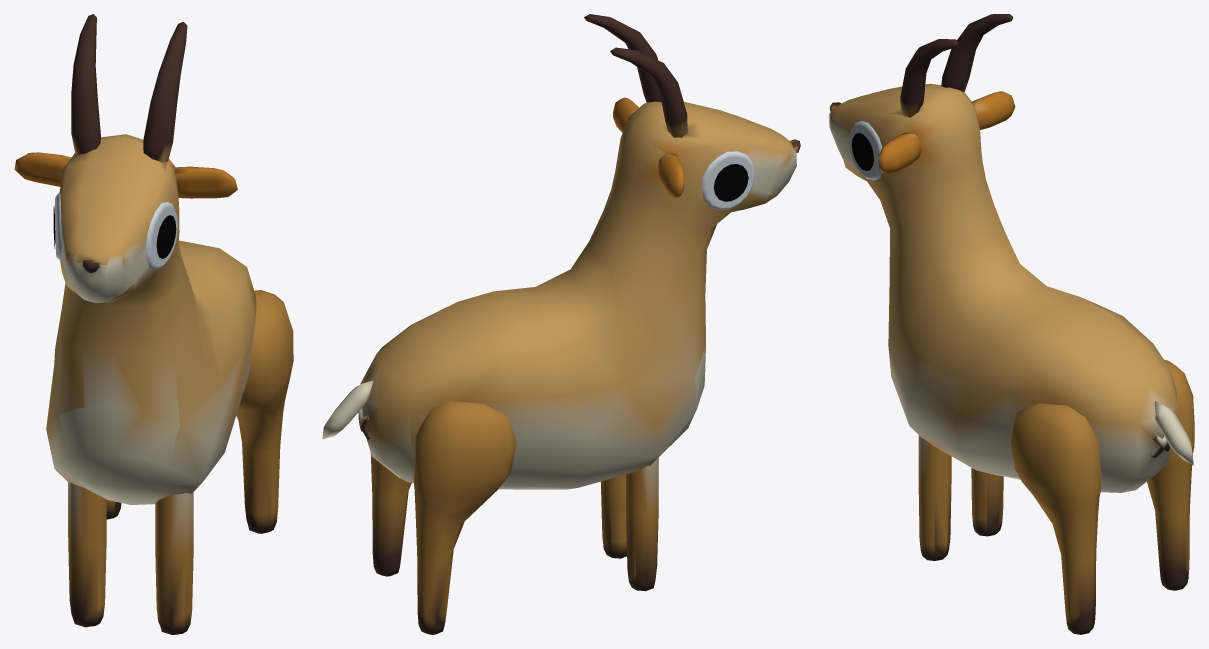
Rendered from Gazelle.glb.
The picture shows the model from 3 angles, left to right: view 1: azimuth 30°, elevation 25°; view 2: azimuth 150°, elevation 25°; view 3: azimuth 270°, elevation 25°; orthographic projection. The views are drawn at different scales.
Visible parts, largest first — view 1: 55; view 2: 55; view 3: 55.
Part boxes in pixels (x1,y1,x2,y2): 55: [14, 14, 293, 634]; 55: [322, 14, 800, 634]; 55: [829, 14, 1194, 634].
Size of the model in its own units: 0.7055 by 1.19 by 0.7466.
